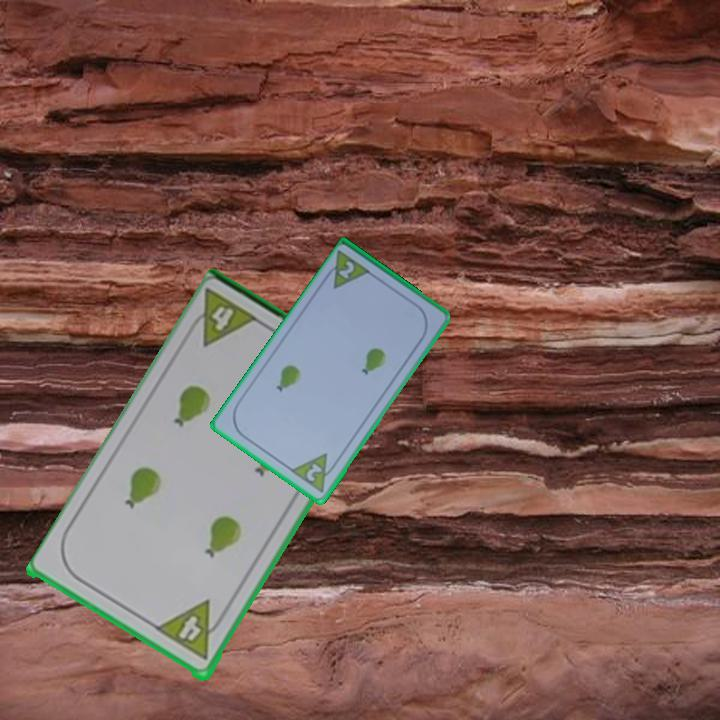2p: (302, 460, 326, 485), (335, 258, 357, 282)
4p: (182, 285, 263, 351), (153, 597, 230, 664)
